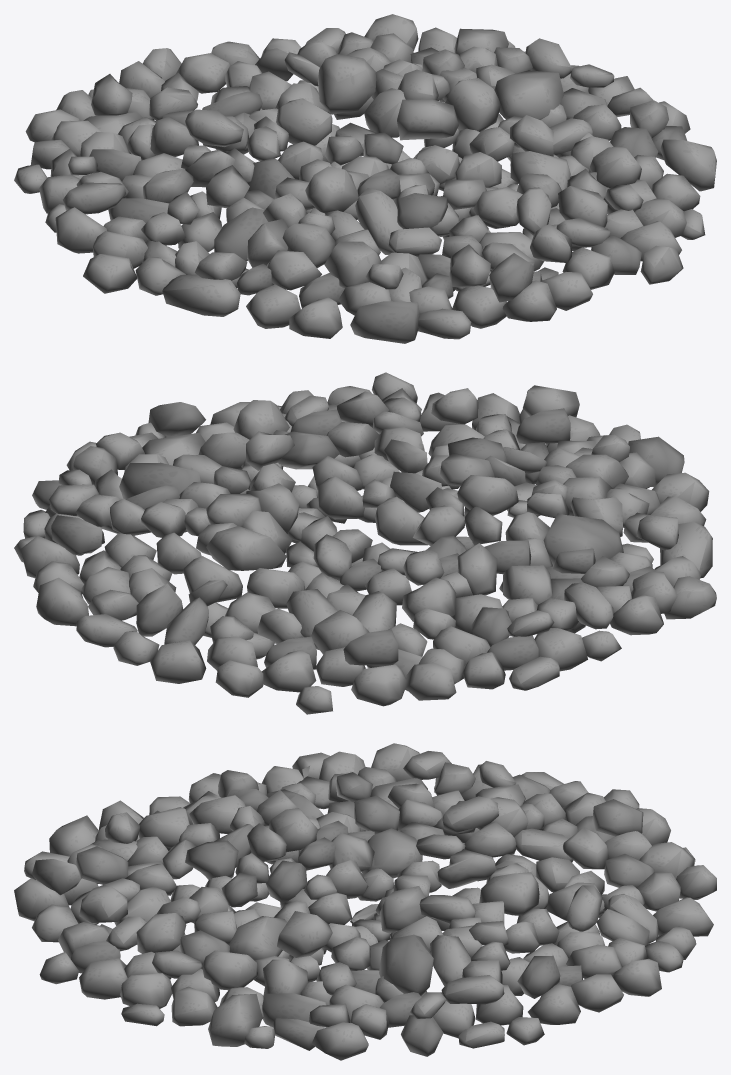
The model's file is PebNest_SplitMesh.fbx.
3 views of the same model, one above another, from view 1: azimuth 30°, elevation 25°; view 2: azimuth 150°, elevation 25°; view 3: azimuth 270°, elevation 25° (orthographic). The views are drawn at different scales.
Parts seen in each view (by area): view 1: PebNest_Chunk2, PebNest_Chunk1, PebNest_Chunk3, PebNest_Chunk4; view 2: PebNest_Chunk1, PebNest_Chunk4, PebNest_Chunk2, PebNest_Chunk3; view 3: PebNest_Chunk3, PebNest_Chunk4, PebNest_Chunk1, PebNest_Chunk2.
Part boxes in pixels (left/top/right/bottom): PebNest_Chunk2: left=135, top=132, right=592, bottom=343; PebNest_Chunk1: left=14, top=48, right=348, bottom=293; PebNest_Chunk3: left=393, top=87, right=716, bottom=289; PebNest_Chunk4: left=211, top=14, right=634, bottom=168; PebNest_Chunk1: left=203, top=535, right=716, bottom=714; PebNest_Chunk4: left=14, top=462, right=372, bottom=683; PebNest_Chunk2: left=301, top=385, right=712, bottom=587; PebNest_Chunk3: left=66, top=372, right=512, bottom=543; PebNest_Chunk3: left=39, top=860, right=426, bottom=1060; PebNest_Chunk4: left=350, top=855, right=713, bottom=1056; PebNest_Chunk1: left=292, top=743, right=716, bottom=944; PebNest_Chunk2: left=14, top=766, right=386, bottom=954.
Size of the model in its own units: 0.8862 by 0.1116 by 0.9025.
